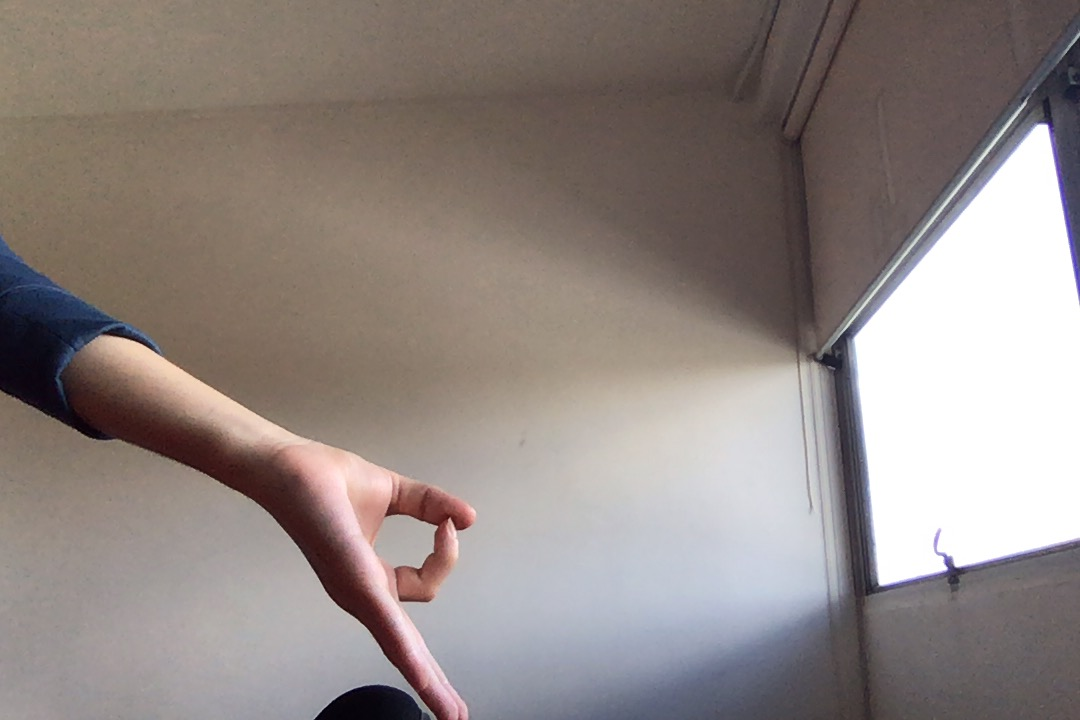oksign: (292, 428, 486, 720)
